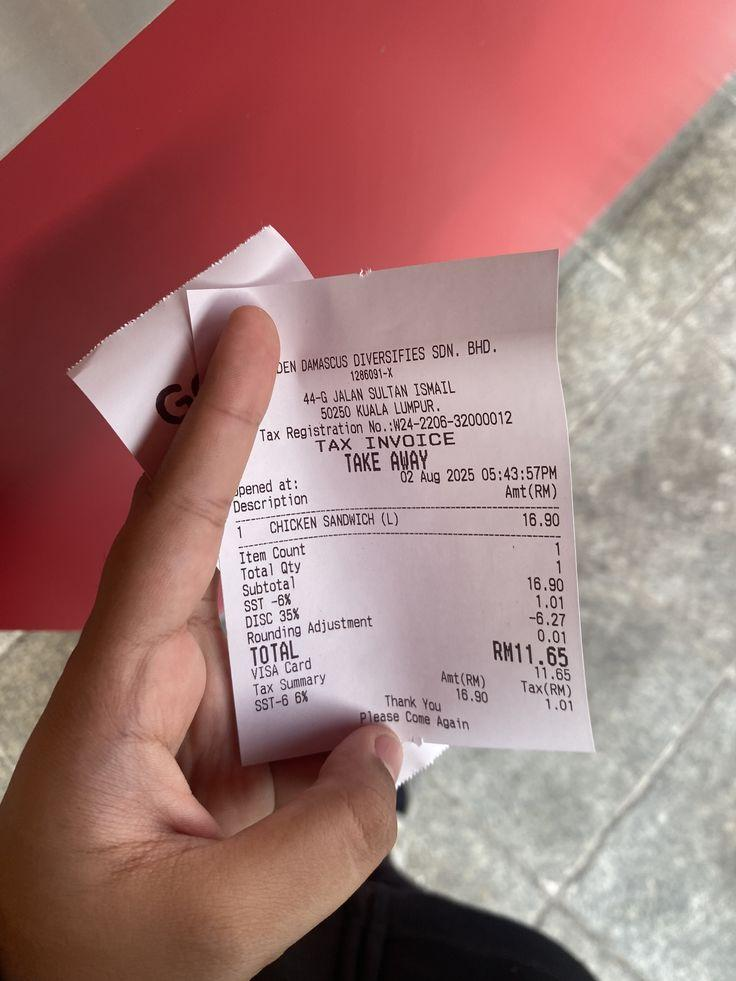receipt-in-hand: (188, 252, 591, 761), (68, 226, 310, 473), (69, 288, 210, 472)
